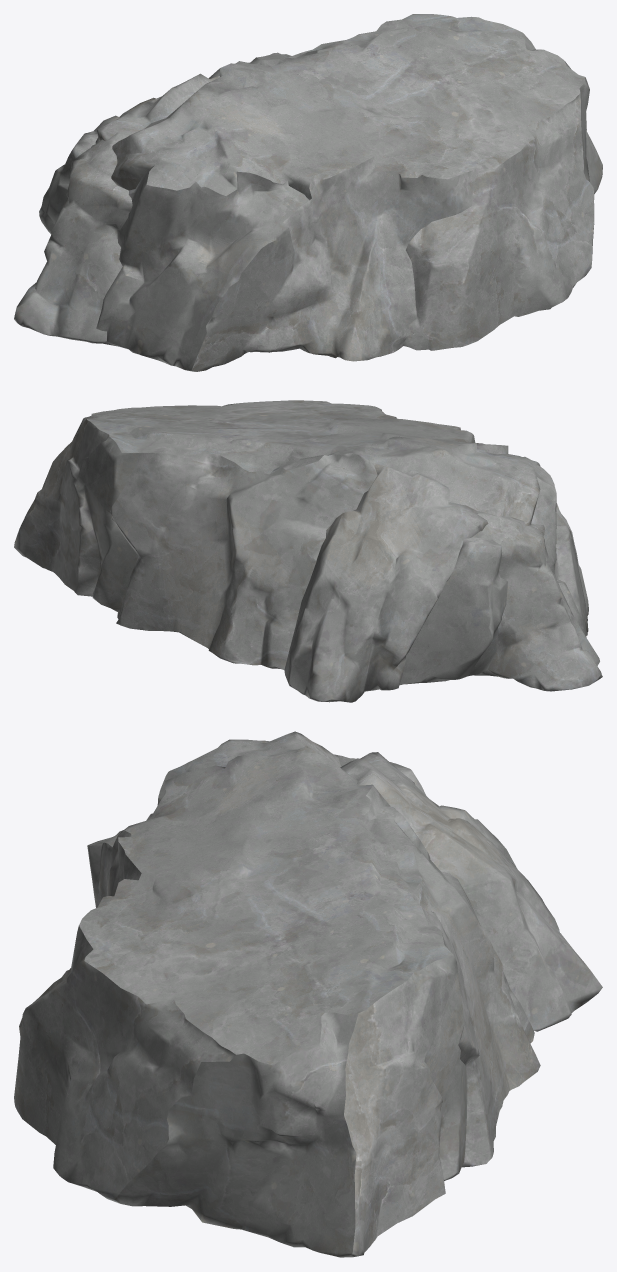
The model's file is SM_Com_Roc_71AH.fbx.
3 views of the same model, one above another, from view 1: azimuth 30°, elevation 25°; view 2: azimuth 150°, elevation 25°; view 3: azimuth 270°, elevation 25° (orthographic). The views are drawn at different scales.
Visible parts, largest first — view 1: SM_Com_Roc_71AH.mo; view 2: SM_Com_Roc_71AH.mo; view 3: SM_Com_Roc_71AH.mo.
Part boxes in pixels (x1,y1,x2,y2): SM_Com_Roc_71AH.mo: (14, 14, 602, 371); SM_Com_Roc_71AH.mo: (14, 400, 602, 702); SM_Com_Roc_71AH.mo: (14, 731, 602, 1257).
Bounding box in the file's own units: 387 × 128 × 257.
